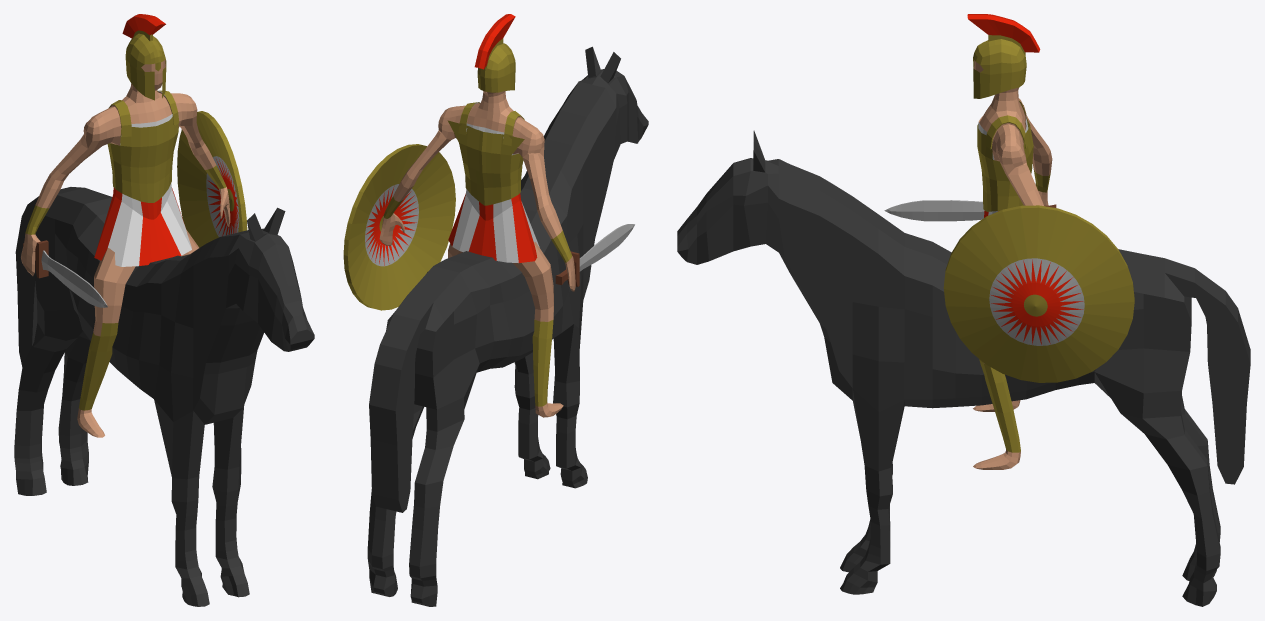
File: RegularEra2.fbx
3 renders of one model, left to right at view 1: azimuth 30°, elevation 25°; view 2: azimuth 150°, elevation 25°; view 3: azimuth 270°, elevation 25°, orthographic. The views are drawn at different scales.
Visible parts, largest first — view 1: Cube, Pieds, Bouclier3, Xiphos_manche; view 2: Cube, Pieds, Bouclier3, Xiphos_manche; view 3: Cube, Bouclier3, Pieds, Xiphos_manche.
Boxes of the visible parts, left/top/right/bottom form: Cube: left=14, top=187, right=314, bottom=606; Pieds: left=21, top=14, right=230, bottom=437; Bouclier3: left=177, top=111, right=247, bottom=247; Xiphos_manche: left=23, top=240, right=107, bottom=307; Cube: left=367, top=46, right=648, bottom=606; Pieds: left=379, top=14, right=575, bottom=417; Bouclier3: left=343, top=144, right=455, bottom=310; Xiphos_manche: left=555, top=224, right=634, bottom=286; Cube: left=677, top=130, right=1250, bottom=606; Bouclier3: left=943, top=205, right=1134, bottom=382; Pieds: left=967, top=14, right=1052, bottom=469; Xiphos_manche: left=884, top=200, right=1056, bottom=221.
Size of the model in its own units: 354 by 879 by 797.
